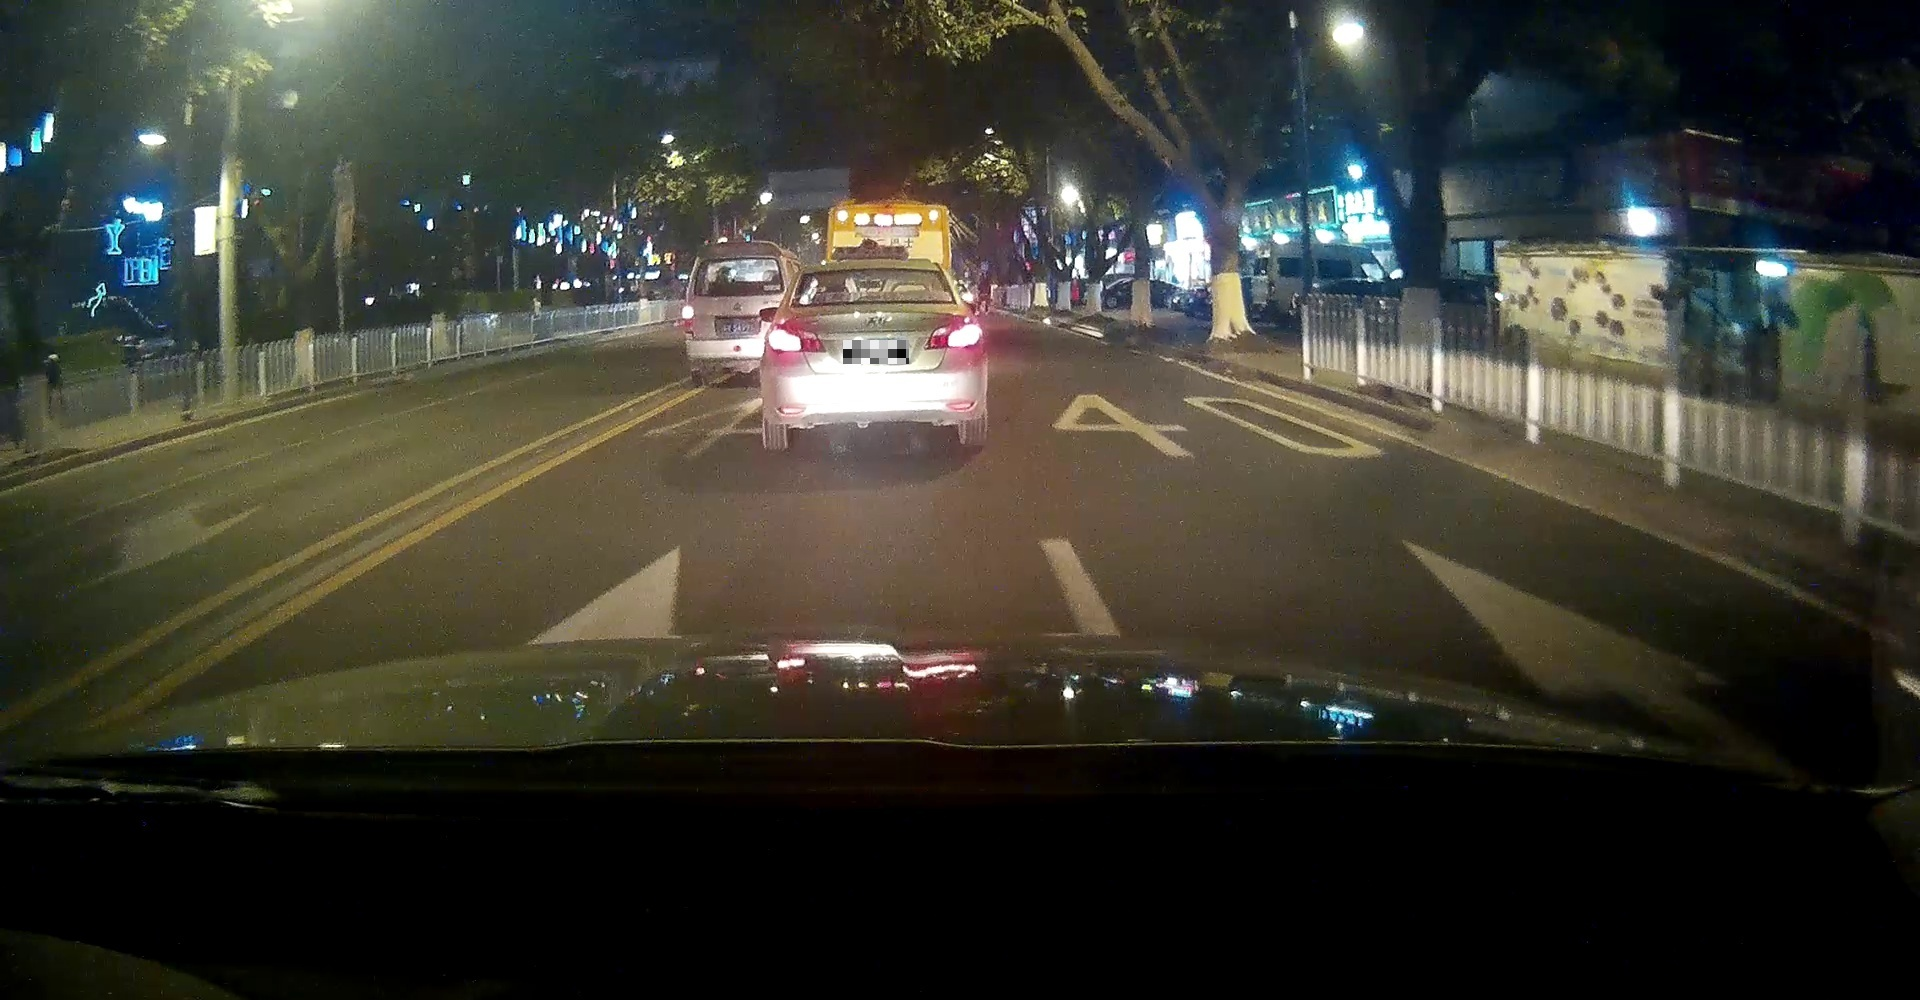L_light: (766, 324, 828, 353)
R_light: (923, 319, 982, 350)
T_light: (858, 299, 888, 303)
night-no: (759, 258, 989, 452)
plate_1: (843, 340, 909, 364)
